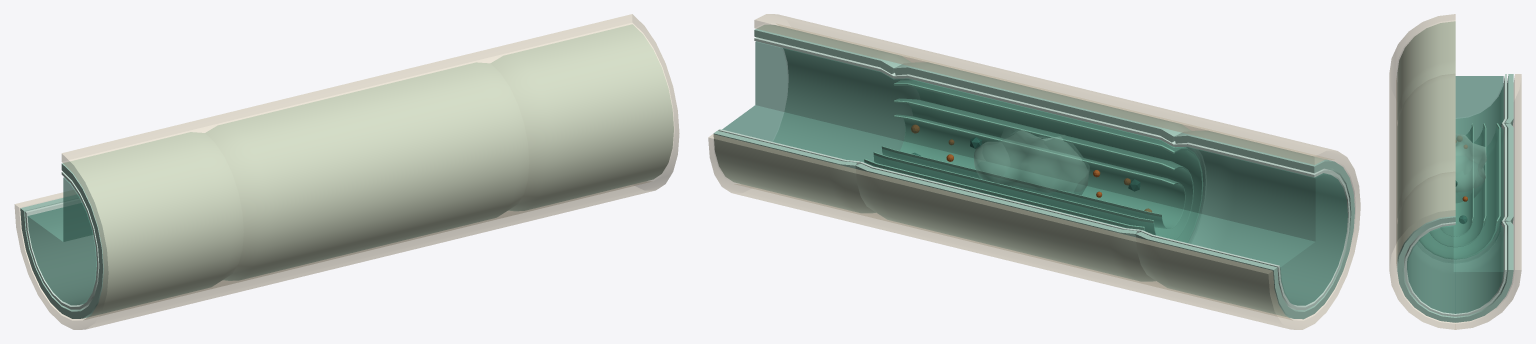
Rendered from gunflintia_cut_001.glb.
The picture shows the model from 3 angles, left to right: view 1: azimuth 30°, elevation 25°; view 2: azimuth 150°, elevation 25°; view 3: azimuth 270°, elevation 25°; orthographic projection. The views are drawn at different scales.
Visible parts, largest first — view 1: gunflintia_cut_sheath, gunflintia_cut_cell_wall, gunflintia_cut_cytoplasm, gunflintia_cut_membrane; view 2: gunflintia_cut_cytoplasm, gunflintia_cut_sheath, gunflintia_cut_cell_wall, gunflintia_cut_membrane, gunflintia_cut_thylakoids, gunflintia_cut_nucleoid; view 3: gunflintia_cut_sheath, gunflintia_cut_cell_wall, gunflintia_cut_cytoplasm, gunflintia_cut_membrane, gunflintia_cut_thylakoids, gunflintia_cut_nucleoid.
Boxes of the visible parts, x1,y1,x2,y2 form: gunflintia_cut_sheath: (14, 14, 679, 329); gunflintia_cut_cell_wall: (20, 24, 673, 318); gunflintia_cut_cytoplasm: (27, 177, 96, 305); gunflintia_cut_membrane: (25, 172, 99, 309); gunflintia_cut_cytoplasm: (722, 41, 1347, 305); gunflintia_cut_sheath: (708, 14, 1360, 329); gunflintia_cut_cell_wall: (713, 25, 1354, 319); gunflintia_cut_membrane: (718, 37, 1350, 310); gunflintia_cut_thylakoids: (864, 80, 1203, 242); gunflintia_cut_nucleoid: (974, 127, 1089, 195); gunflintia_cut_sheath: (1389, 14, 1521, 329); gunflintia_cut_cell_wall: (1397, 21, 1513, 322); gunflintia_cut_cytoplasm: (1407, 76, 1503, 313); gunflintia_cut_membrane: (1404, 74, 1506, 316); gunflintia_cut_thylakoids: (1419, 123, 1500, 259); gunflintia_cut_nucleoid: (1455, 133, 1486, 202).
Size of the model in its own units: 7 by 2 by 2.
